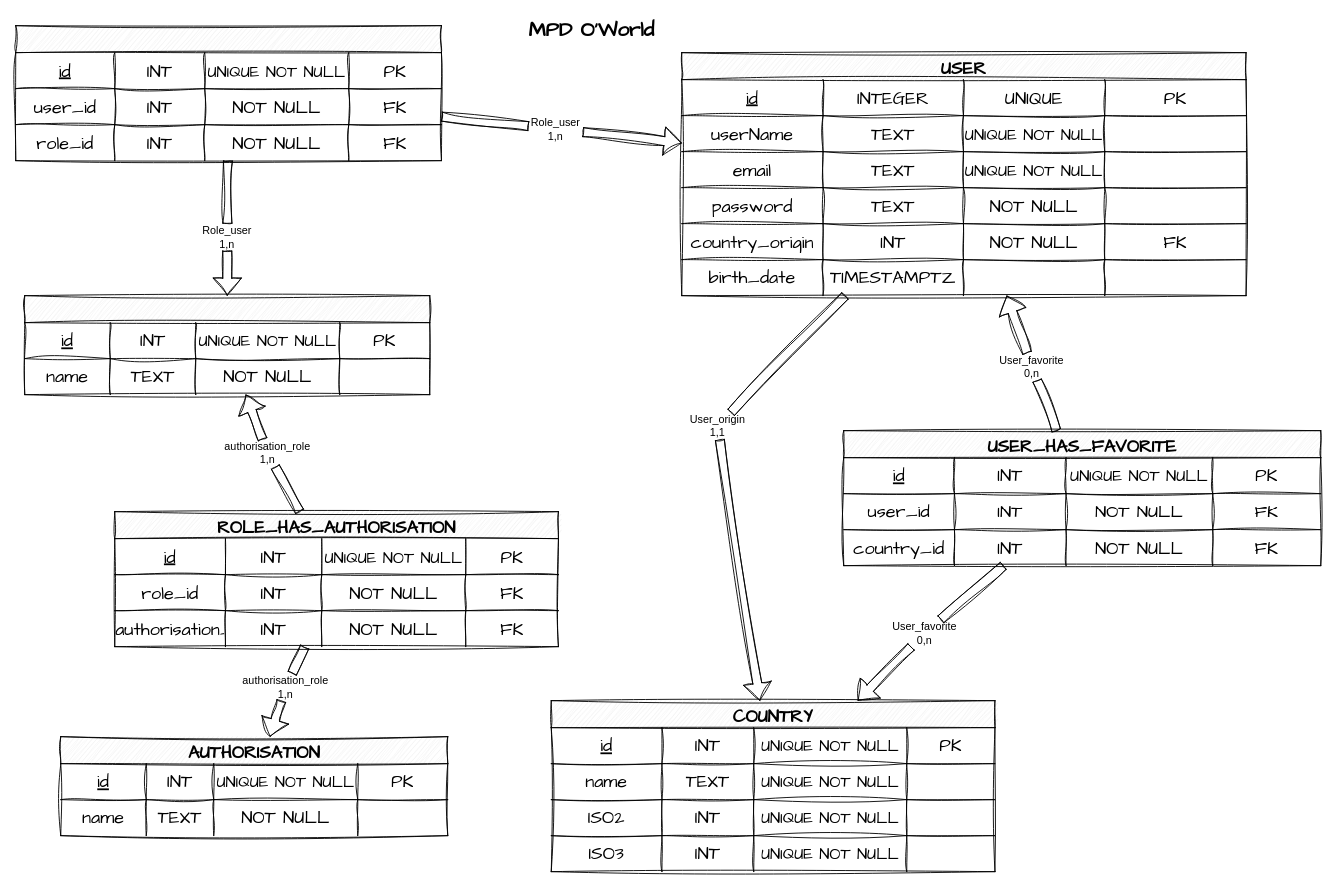
The diagram is 1337 pixels wide and 887 high, and some of its shapes have lost their labels. The shapes that lost their labels are listed below. From the top down, each one's box as (x1, y1, x2, y2) in pixels, then its label:
(15, 25, 441, 161): USER_HAS_ROLE
(24, 295, 430, 395): ROLE
